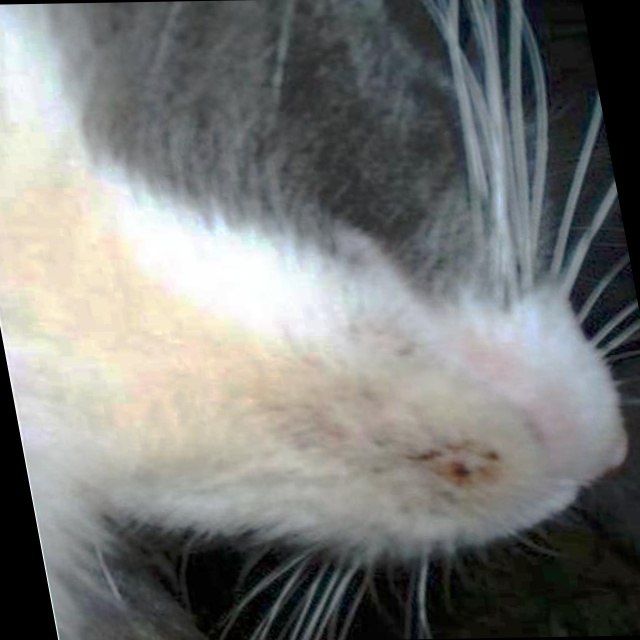acne: (363, 444, 522, 510)
